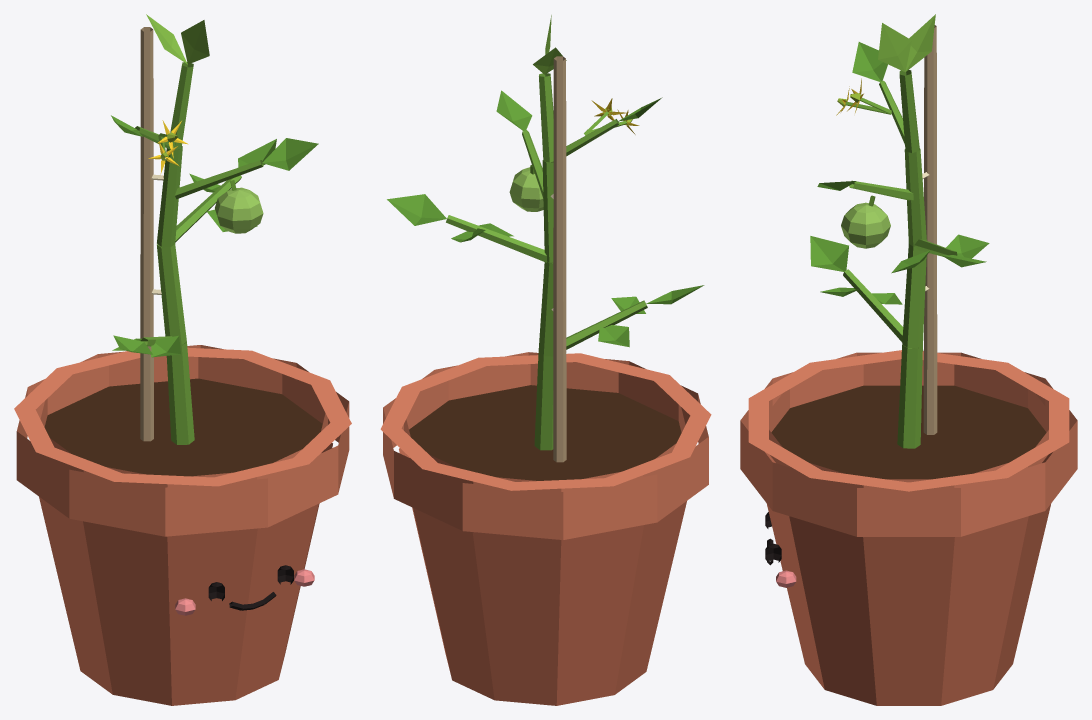
The model's file is tomato_stage2.glb.
The picture shows the model from 3 angles, left to right: view 1: azimuth 30°, elevation 25°; view 2: azimuth 150°, elevation 25°; view 3: azimuth 270°, elevation 25°; orthographic projection. The views are drawn at different scales.
Parts seen in each view (by area): view 1: tomato_stage2_flowering; view 2: tomato_stage2_flowering; view 3: tomato_stage2_flowering.
Part boxes in pixels (<box>): tomato_stage2_flowering: <box>14,14,351,705</box>; tomato_stage2_flowering: <box>380,15,711,705</box>; tomato_stage2_flowering: <box>740,14,1077,705</box>.
Bounding box in the file's own units: 1.88 × 3.97 × 1.88.
